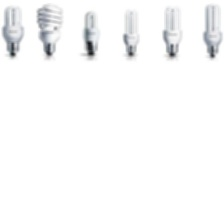light_bulb: (33, 1, 65, 61), (0, 2, 26, 61), (159, 3, 183, 60), (201, 3, 224, 60), (120, 5, 142, 58), (78, 9, 101, 58)
